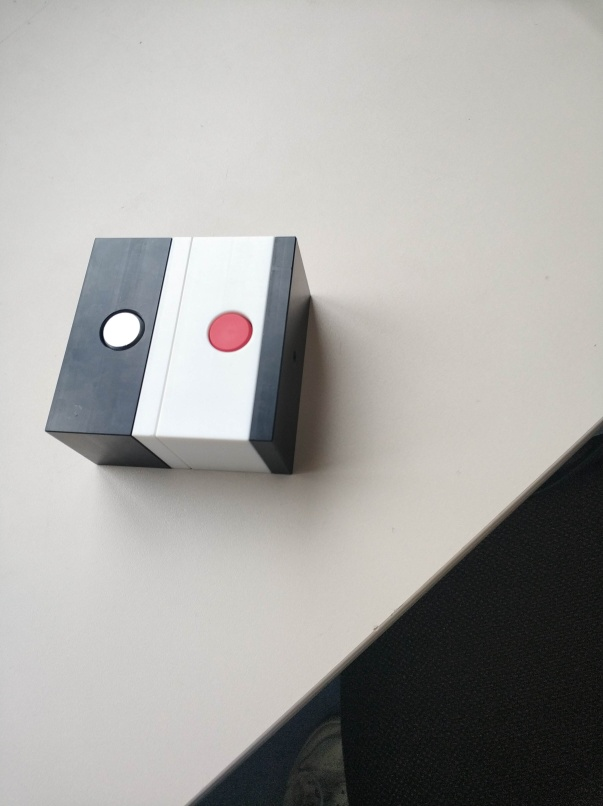black+white+red: (157, 232, 312, 474)
white+black+silver: (41, 234, 190, 470)
